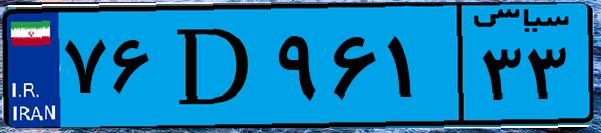1: (385, 28, 445, 110)
3: (475, 38, 525, 113), (525, 38, 570, 115)
6: (330, 28, 385, 110), (110, 28, 158, 98)
7: (57, 26, 110, 100)
9: (270, 28, 330, 110)
D: (158, 12, 270, 120)
